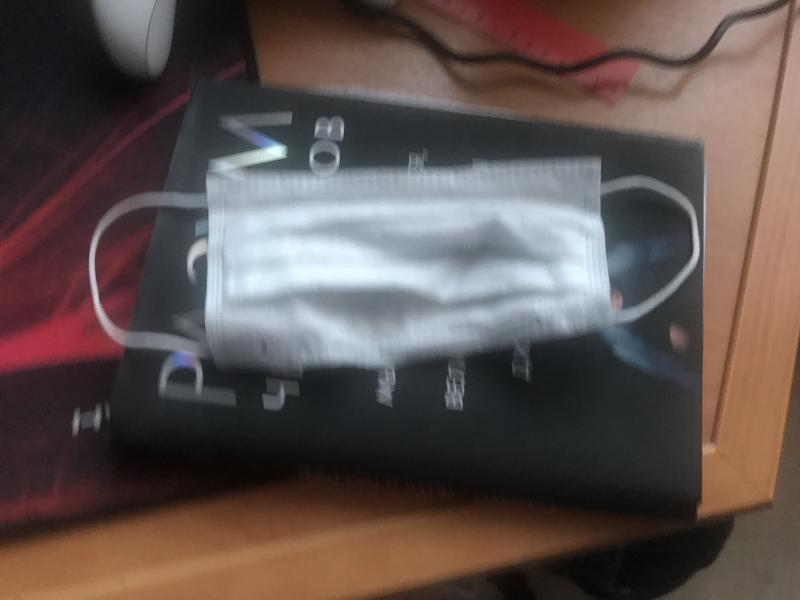medical_mask: (87, 161, 699, 366)
